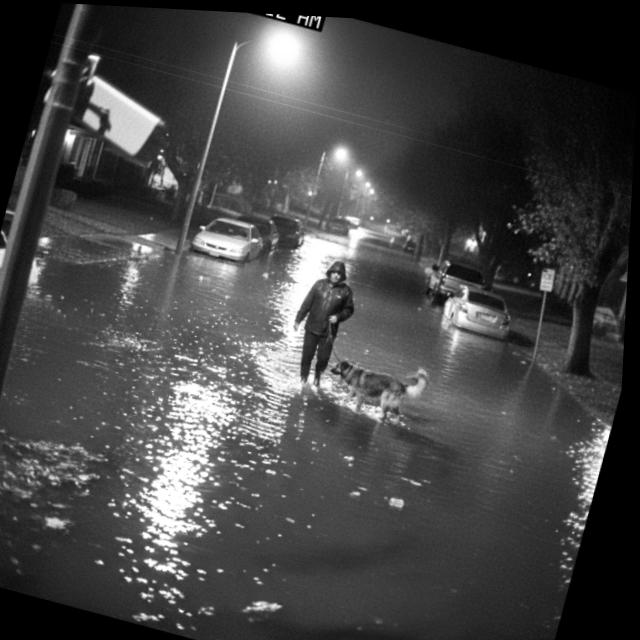civilian: (270, 247, 375, 406)
dog: (316, 344, 434, 433)
